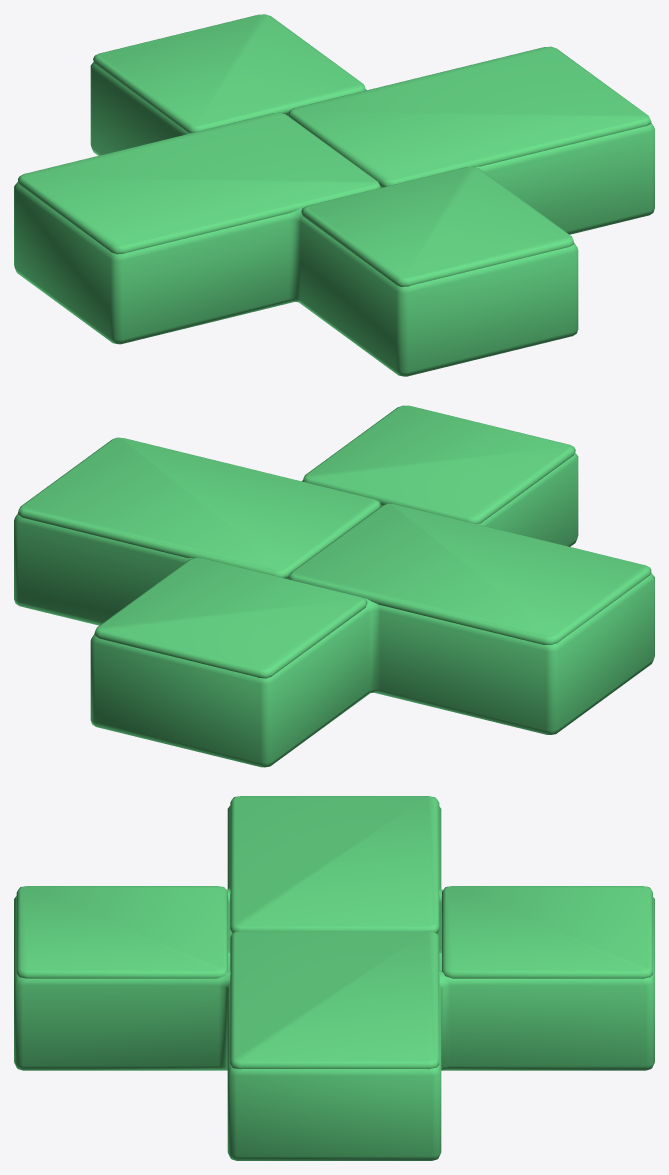
File: Block-X-Green.fbx
The picture shows the model from 3 angles, top to bottom: view 1: azimuth 30°, elevation 25°; view 2: azimuth 150°, elevation 25°; view 3: azimuth 270°, elevation 25°; orthographic projection. The views are drawn at different scales.
Visible parts, largest first — view 1: Cube.003, Block-X-Green; view 2: Cube.003, Block-X-Green; view 3: Cube.003, Block-X-Green.
Boxes of the visible parts, left/top/right/bottom form: Cube.003: left=18, top=14, right=651, bottom=286; Block-X-Green: left=14, top=62, right=654, bottom=376; Cube.003: left=18, top=405, right=651, bottom=678; Block-X-Green: left=14, top=452, right=654, bottom=767; Cube.003: left=16, top=796, right=652, bottom=1069; Block-X-Green: left=14, top=805, right=654, bottom=1160.
Size of the model in its own units: 300 by 51.89 by 300.
